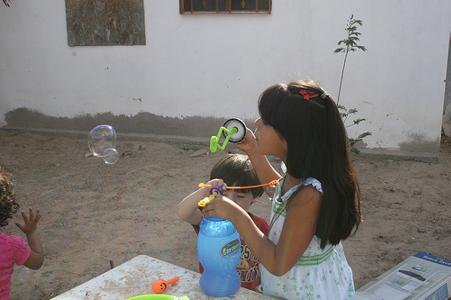person: (199, 84, 364, 300)
